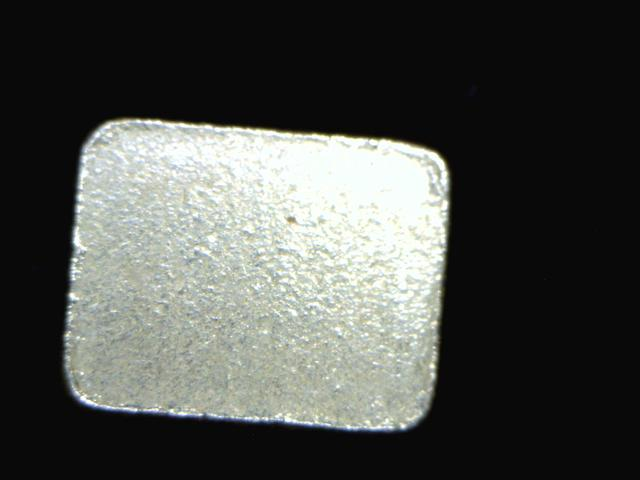ok: (52, 110, 453, 443)
